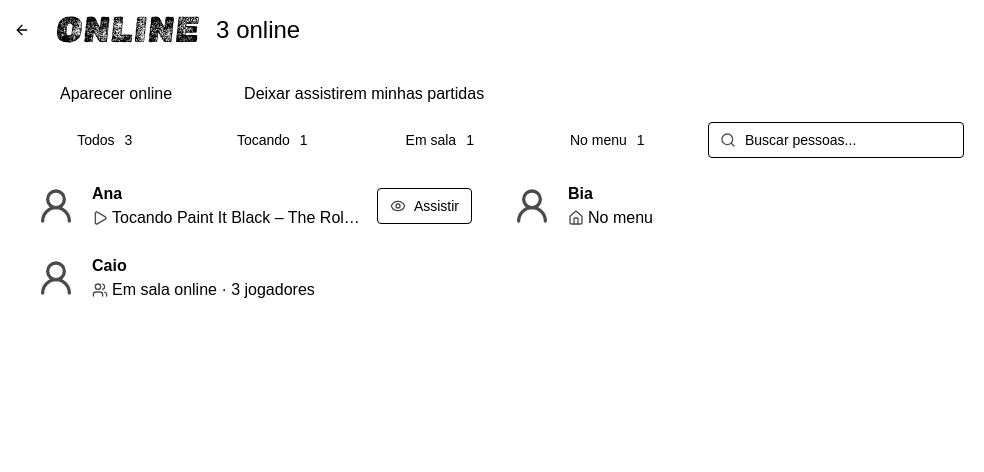
Test case: TelaOnline › busca pelo nome e avisa quando ninguém bate
The width and height of the screenshot is (984, 472).
Type "bi" into the field labelled "Buscar pessoas" at (836, 140), box [708,122,964,158]
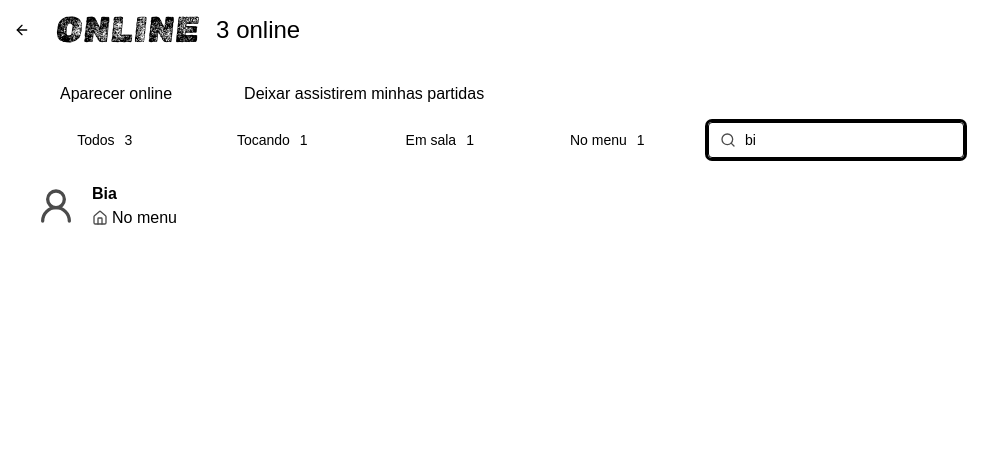
Expected: the text "Bia" is shown, [92,182,117,206]
Expected: the text "Ana" is gone
Type "zzz" into the field named "Buscar pessoas" at (836, 140), box [708,122,964,158]
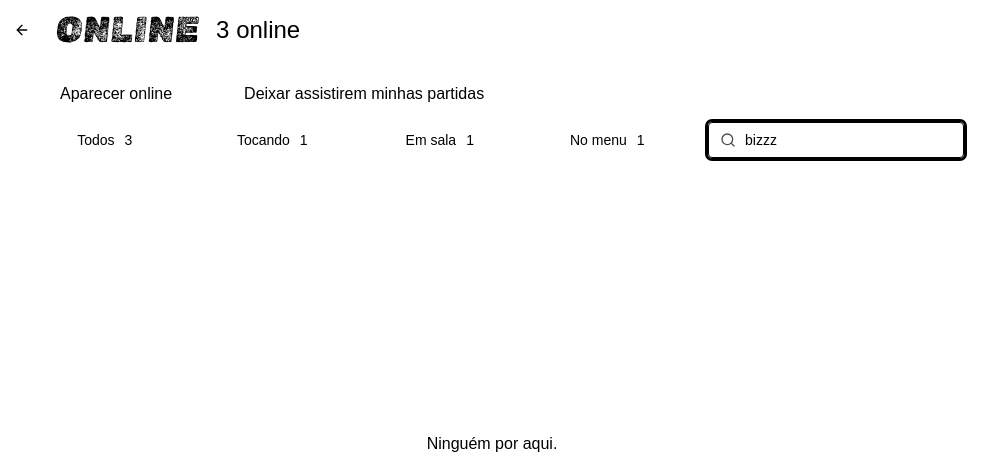
Expected: the text "Ninguém por aqui." is shown, [427,432,557,456]
